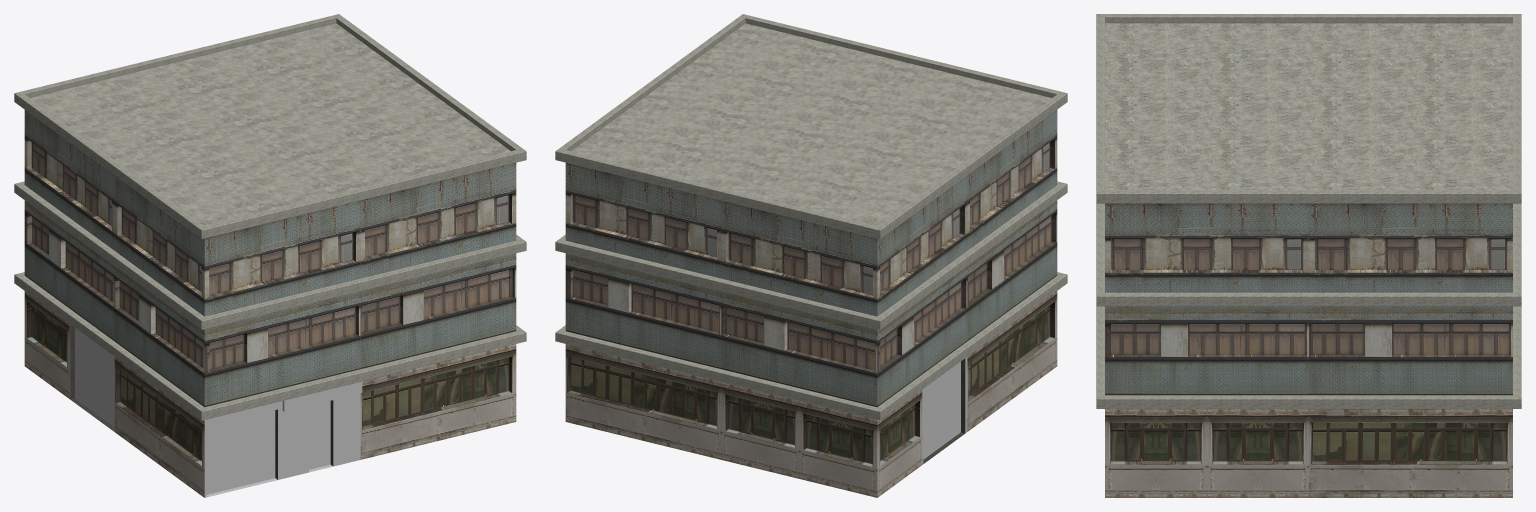
Rendered from CT_door_016.fbx.
The picture shows the model from 3 angles, left to right: view 1: azimuth 30°, elevation 25°; view 2: azimuth 150°, elevation 25°; view 3: azimuth 270°, elevation 25°; orthographic projection. The views are drawn at different scales.
Visible parts, largest first — view 1: CT_door_016; view 2: CT_door_016; view 3: CT_door_016.
Part boxes in pixels (bbox=[...]): CT_door_016: bbox=[14, 14, 526, 497]; CT_door_016: bbox=[555, 14, 1067, 497]; CT_door_016: bbox=[1096, 14, 1521, 497].
Bounding box in the file's own units: 1067 × 853 × 1067.
